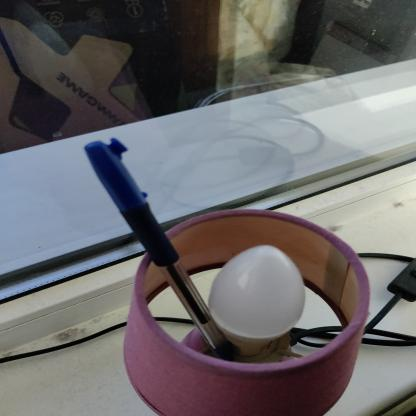pen: (57, 131, 272, 371)
